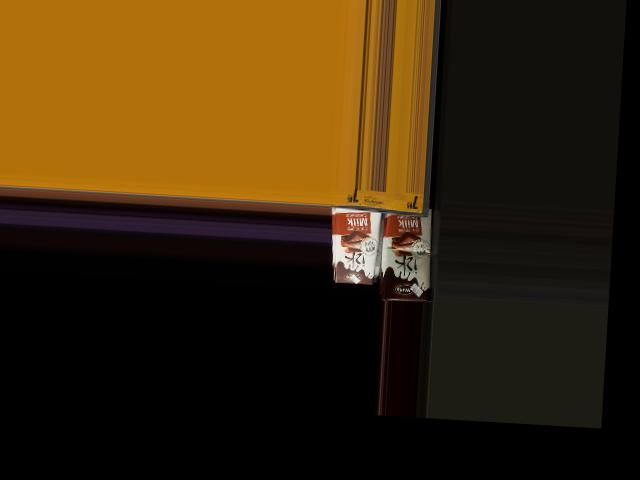chocolate: (323, 197, 381, 287)
